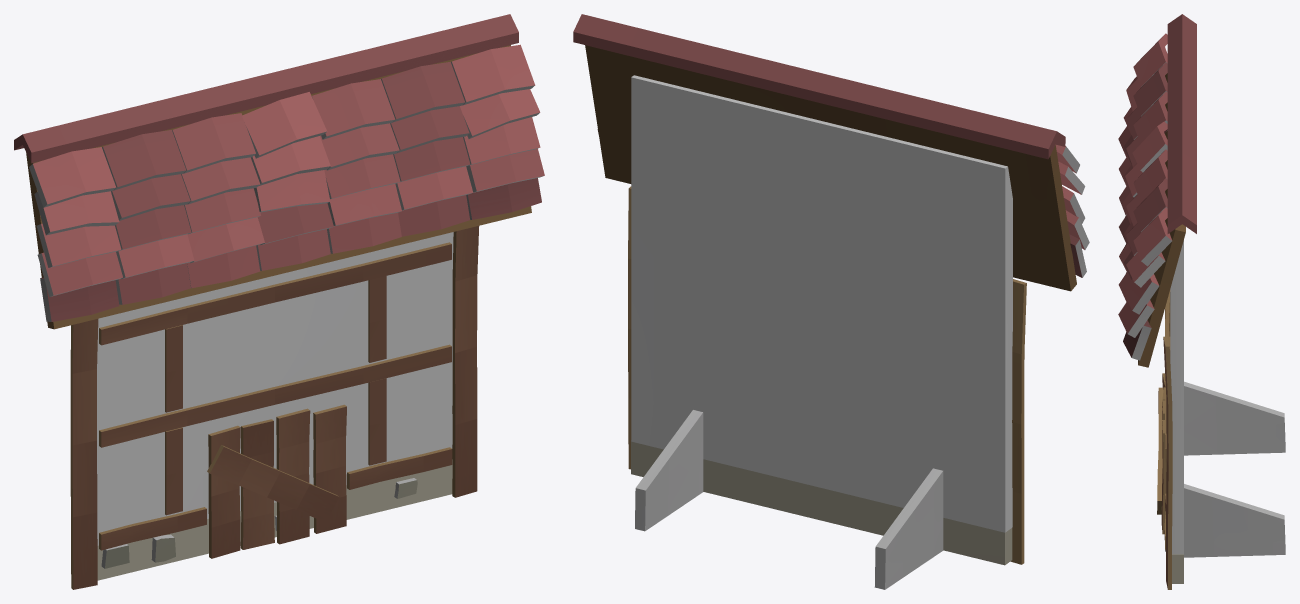
Rendered from paper house plane 2.fbx.
3 views of the same model, side by side, from view 1: azimuth 30°, elevation 25°; view 2: azimuth 150°, elevation 25°; view 3: azimuth 270°, elevation 25° (orthographic). The views are drawn at different scales.
Visible parts, largest first — view 1: Cube.236, Cube.335, Cube.295, Cube.341, Cube.342, Cube.343, Cube.346, Cube.284, Cube.336, Cube.337, Cube.328, Cube.338 (+26 smaller); view 2: Cube.236, Cube.305, Cube.335, Cube.345, Cube.336, Cube.295; view 3: Cube.345, Cube.335, Cube.236, Cube.341, Cube.305, Cube.342, Cube.343, Cube.295, Cube.337, Cube.344, Cube.324, Cube.328 (+9 smaller).
Boxes of the visible parts, <box> form: Cube.236: <box>97,232,453,545</box>; Cube.335: <box>14,14,518,163</box>; Cube.295: <box>70,226,479,589</box>; Cube.341: <box>29,44,535,207</box>; Cube.342: <box>102,62,465,190</box>; Cube.343: <box>172,79,395,173</box>; Cube.346: <box>99,242,451,345</box>; Cube.284: <box>99,344,451,447</box>; Cube.336: <box>97,459,452,580</box>; Cube.337: <box>34,89,540,235</box>; Cube.328: <box>36,117,540,267</box>; Cube.338: <box>111,106,469,220</box>; Cube.236: <box>631,75,1012,532</box>; Cube.305: <box>585,45,1076,291</box>; Cube.335: <box>573,14,1065,159</box>; Cube.345: <box>635,410,943,589</box>; Cube.336: <box>631,440,1012,565</box>; Cube.295: <box>628,186,1026,564</box>; Cube.345: <box>1184,381,1285,557</box>; Cube.335: <box>1167,14,1196,233</box>; Cube.236: <box>1170,240,1183,554</box>; Cube.341: <box>1133,33,1172,266</box>; Cube.305: <box>1138,73,1185,367</box>; Cube.342: <box>1133,62,1167,231</box>; Cube.343: <box>1133,92,1167,202</box>; Cube.295: <box>1163,336,1172,589</box>; Cube.337: <box>1126,76,1165,287</box>; Cube.344: <box>1132,121,1167,172</box>; Cube.324: <box>1118,126,1154,337</box>; Cube.328: <box>1123,107,1159,314</box>.
Size of the model in its own units: 904 by 812 by 313.
